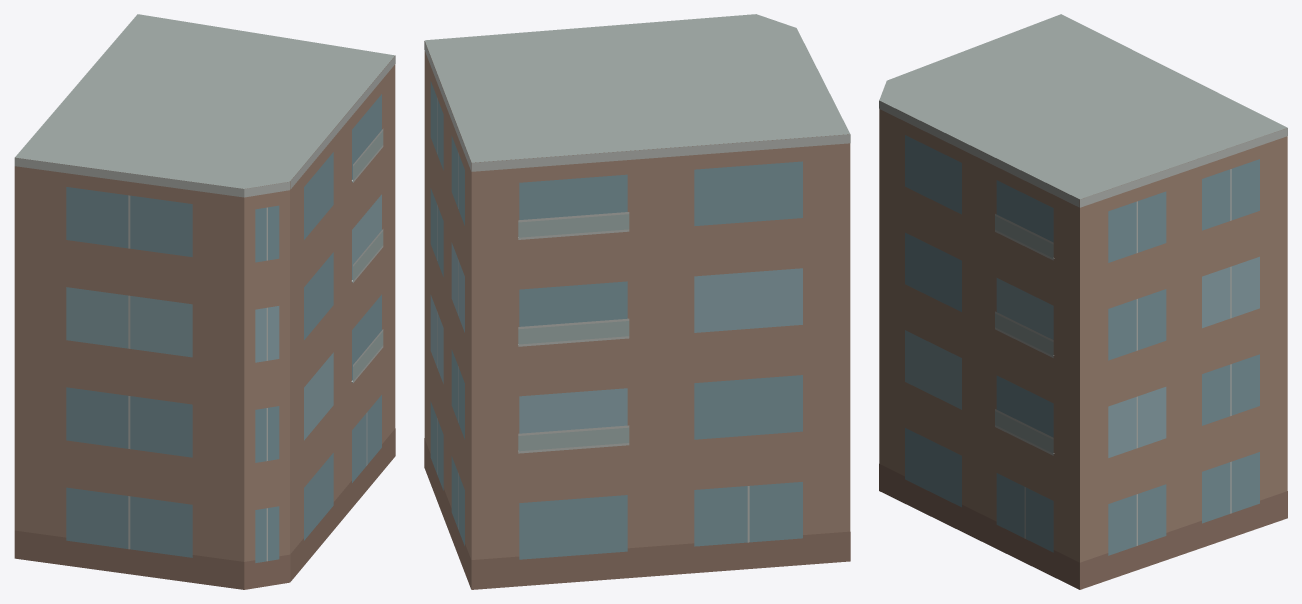
Rendered from survey-upis-32763243.glb.
3 views of the same model, side by side, from view 1: azimuth 30°, elevation 25°; view 2: azimuth 150°, elevation 25°; view 3: azimuth 270°, elevation 25° (orthographic). The views are drawn at different scales.
Visible parts, largest first — view 1: survey-upis-32763243.tmp; view 2: survey-upis-32763243.tmp; view 3: survey-upis-32763243.tmp.
Part boxes in pixels (bbox=[...]): survey-upis-32763243.tmp: bbox=[14, 14, 395, 589]; survey-upis-32763243.tmp: bbox=[424, 14, 850, 589]; survey-upis-32763243.tmp: bbox=[879, 14, 1287, 589].
Size of the model in its own units: 11.62 by 11.4 by 10.82.
